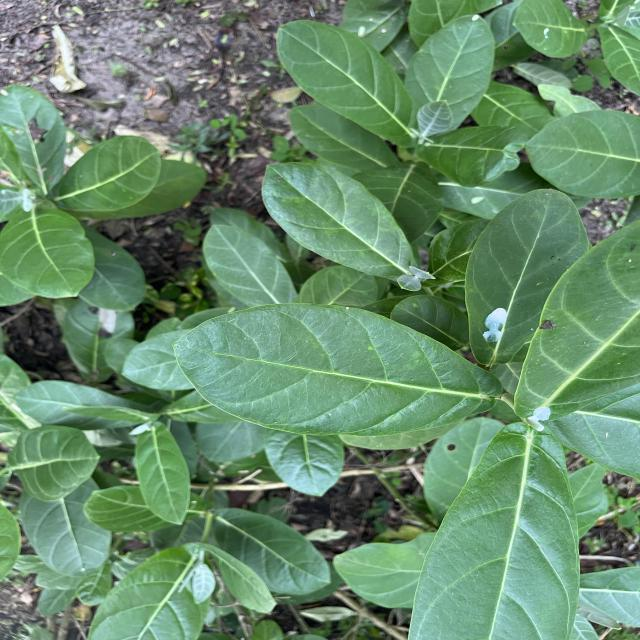Calotropis gigantea: (169, 302, 503, 438), (408, 421, 582, 639), (464, 186, 592, 370), (260, 160, 417, 286), (274, 18, 422, 148), (205, 507, 332, 598), (405, 12, 497, 134), (0, 198, 97, 300), (51, 135, 162, 213), (200, 224, 298, 304), (6, 424, 104, 504), (133, 426, 192, 526)
